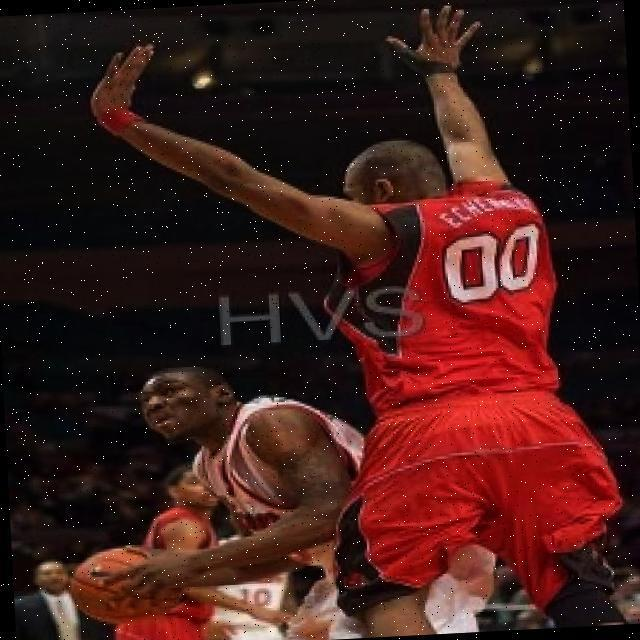ball: (69, 536, 186, 629)
